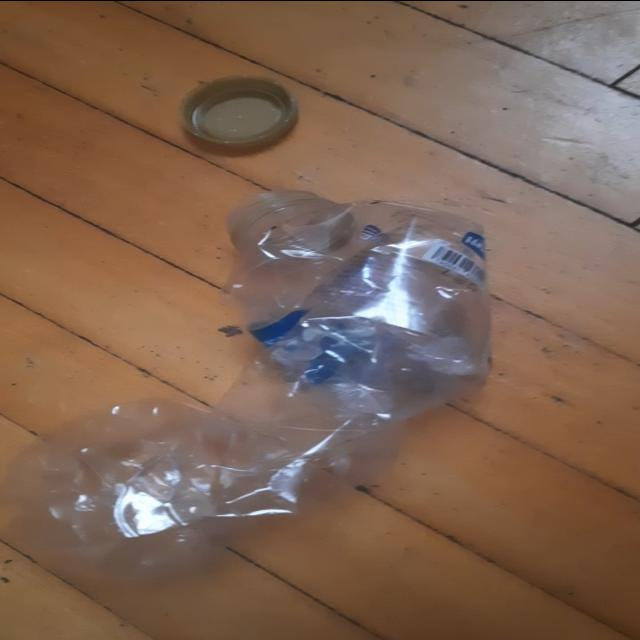Plastic: (30, 198, 492, 540)
